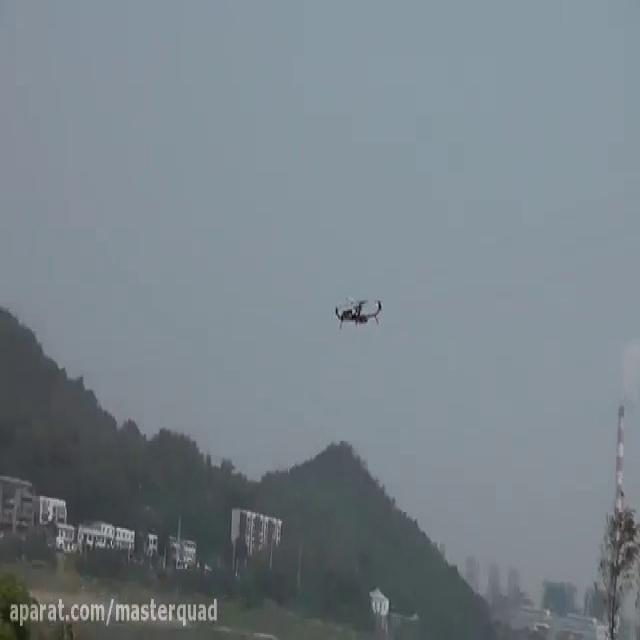drone: (330, 288, 385, 334)
